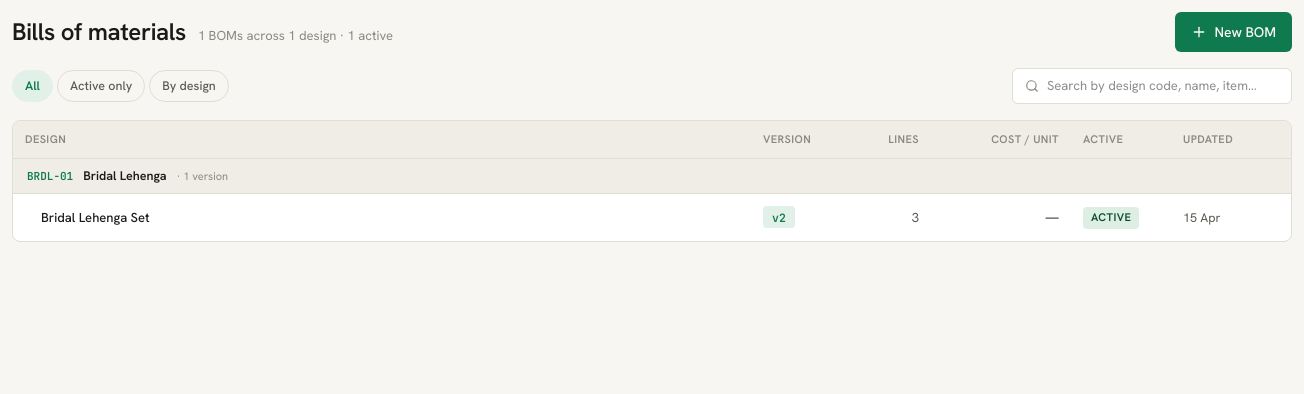
Test: BomsList (live-mode integration, TASK-TR-E1-BOMS) › filtered empty (search miss) shows the no-match CTA
This screenshot has width=1304, height=394.
Expected: the number of rows with test id "bom-version-row" is 1, [13,194,1291,241]
Type "zzznomatch" into the search field named "search boms" at point(1163, 86), box [1047,76,1279,96]
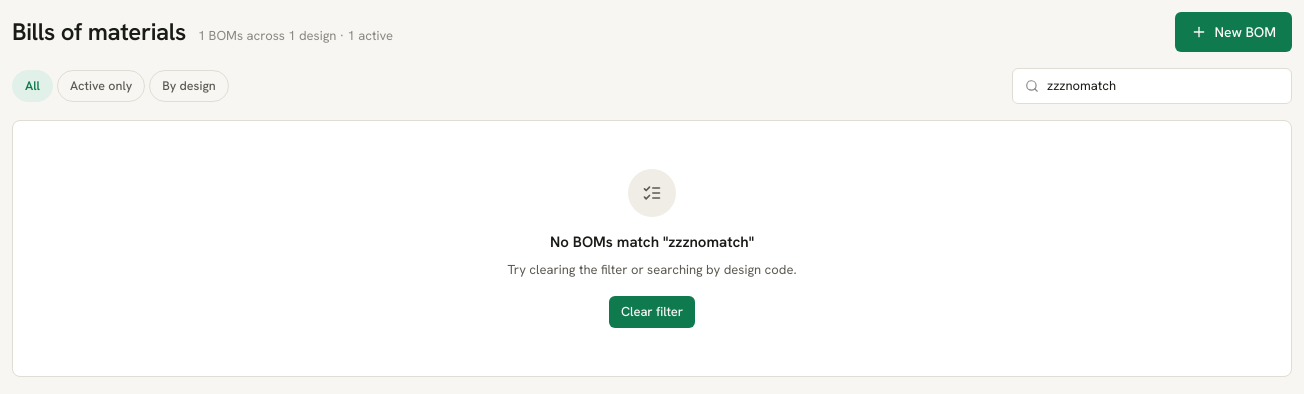
Expected: the heading "No BOMs match \"zzznomatch\"" is shown, [550,231,754,254]
Click the button "Clear filter" at point(652, 312), box [609,296,695,328]
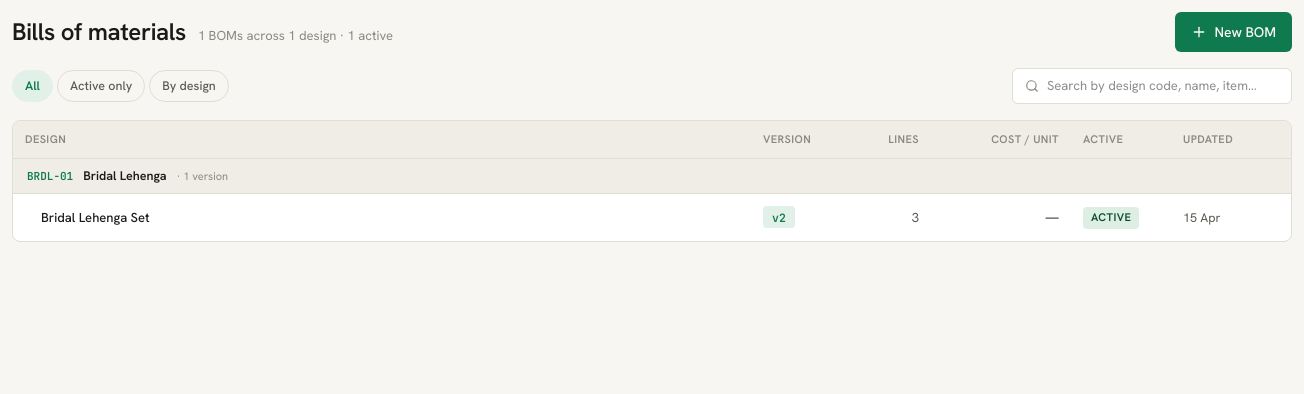
Expected: the number of rows with test id "bom-version-row" is 1, [13,194,1291,241]
